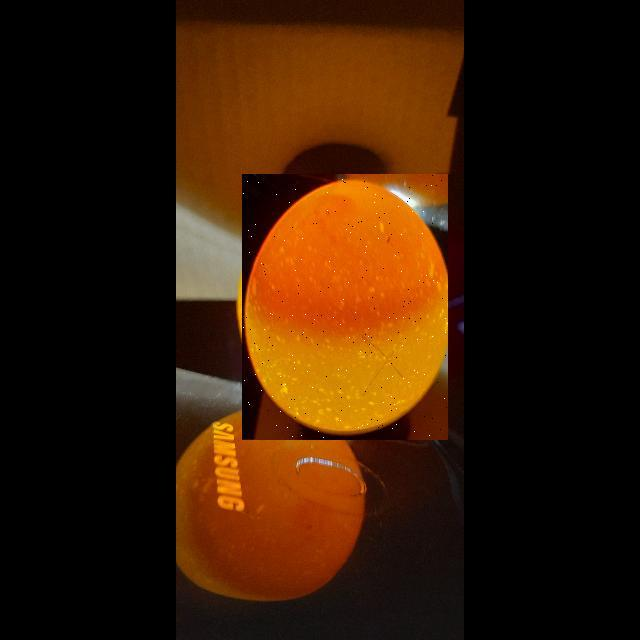Fertile: (242, 174, 448, 440)
